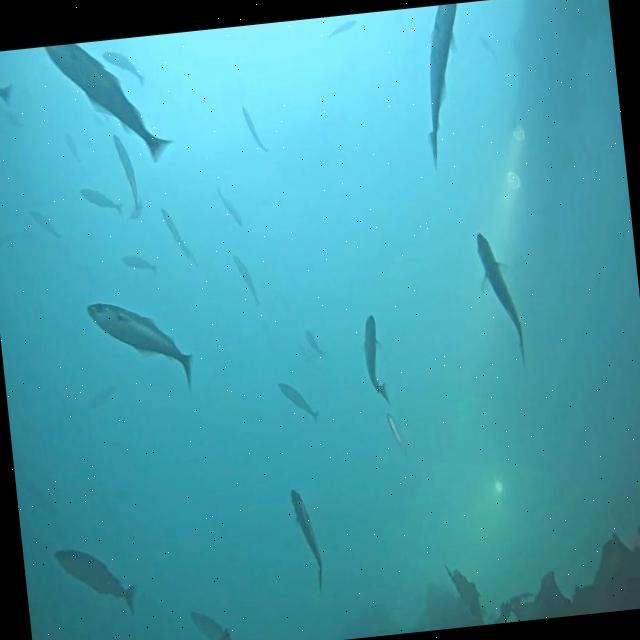fish: (46, 36, 174, 170), (88, 293, 196, 400), (413, 2, 474, 169), (474, 229, 526, 365), (53, 542, 138, 622), (287, 484, 324, 590), (356, 313, 386, 403), (112, 131, 140, 212), (278, 378, 318, 426), (101, 49, 145, 90), (187, 607, 239, 640), (231, 250, 260, 308), (240, 102, 268, 152), (80, 183, 122, 216), (162, 207, 187, 261), (28, 208, 61, 240), (218, 186, 242, 228), (386, 414, 406, 458), (123, 252, 156, 274), (0, 66, 14, 109), (327, 22, 357, 38), (66, 131, 78, 161)
